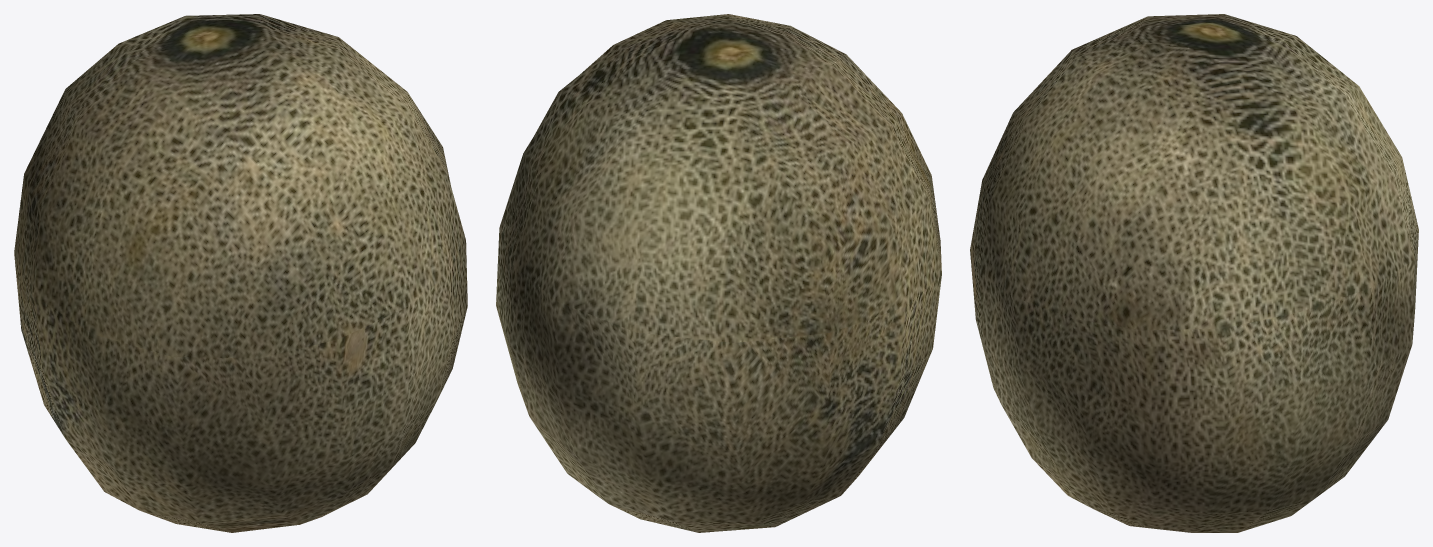
The model's file is A131_Cantaloupe_low.fbx.
The picture shows the model from 3 angles, left to right: view 1: azimuth 30°, elevation 25°; view 2: azimuth 150°, elevation 25°; view 3: azimuth 270°, elevation 25°; orthographic projection.
Parts seen in each view (by area): view 1: A131_Cantaloupe_low; view 2: A131_Cantaloupe_low; view 3: A131_Cantaloupe_low.
Part boxes in pixels (bbox=[...]): A131_Cantaloupe_low: bbox=[14, 14, 467, 532]; A131_Cantaloupe_low: bbox=[496, 14, 941, 532]; A131_Cantaloupe_low: bbox=[970, 14, 1418, 532].
Size of the model in its own units: 14.86 by 14.86 by 17.19.
Materials: 1 (1 with a texture image).
